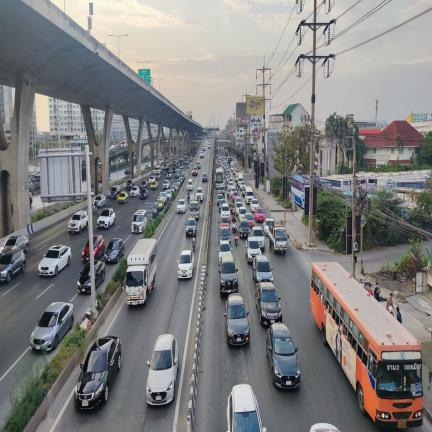bus: (310, 262, 423, 428), (215, 168, 224, 184)
car: (74, 336, 121, 409), (146, 334, 178, 405), (266, 322, 300, 388), (30, 302, 74, 351), (226, 384, 266, 432), (224, 293, 250, 345), (255, 281, 282, 325), (38, 245, 71, 276), (0, 249, 26, 283), (218, 254, 238, 297), (0, 235, 29, 255), (253, 255, 273, 283), (177, 250, 194, 279), (104, 239, 124, 263), (68, 210, 88, 233), (245, 236, 261, 264), (77, 262, 91, 293), (97, 208, 116, 229), (131, 210, 147, 233), (218, 240, 232, 265), (251, 227, 265, 251), (94, 261, 105, 288), (93, 235, 105, 259), (238, 219, 250, 238), (185, 218, 197, 236), (219, 227, 231, 244), (263, 218, 274, 236), (82, 240, 90, 262), (236, 206, 247, 221), (244, 212, 254, 228), (109, 186, 121, 199), (220, 203, 230, 218), (250, 198, 260, 213), (94, 195, 106, 207), (219, 216, 230, 229), (176, 199, 186, 213), (151, 202, 159, 219), (195, 187, 204, 202), (158, 191, 167, 206), (156, 198, 164, 212), (235, 201, 243, 215), (139, 188, 149, 199), (219, 198, 226, 213), (126, 179, 135, 190), (233, 196, 243, 205), (130, 186, 139, 196), (238, 180, 246, 191), (218, 186, 225, 198), (217, 194, 224, 206), (186, 179, 193, 191), (162, 179, 170, 189), (178, 173, 185, 184), (166, 189, 172, 201), (148, 175, 156, 184), (140, 180, 148, 189), (173, 181, 179, 191), (241, 185, 246, 197), (192, 166, 198, 176), (202, 173, 208, 182), (170, 185, 176, 194), (174, 170, 180, 179), (155, 172, 161, 180), (166, 171, 172, 179), (163, 164, 168, 171), (315, 429, 326, 432), (235, 172, 238, 183), (50, 248, 53, 250), (335, 429, 337, 430), (332, 429, 334, 430), (328, 429, 330, 430), (48, 251, 49, 252), (334, 430, 335, 430), (43, 260, 43, 261)
human: (335, 329, 342, 364), (386, 293, 393, 311), (374, 282, 380, 302), (396, 306, 402, 324), (388, 306, 394, 316), (360, 278, 365, 288), (392, 313, 393, 314)
motorbike: (192, 237, 196, 251), (235, 232, 238, 246), (93, 205, 97, 215), (232, 207, 235, 220), (187, 194, 190, 203)
taxi: (254, 207, 265, 222), (117, 191, 129, 204), (156, 198, 164, 212), (231, 189, 239, 202), (150, 180, 158, 190)
truck: (125, 239, 157, 305), (268, 220, 289, 254), (189, 194, 199, 219)
van: (245, 186, 254, 204), (154, 165, 161, 174), (238, 173, 243, 183)
